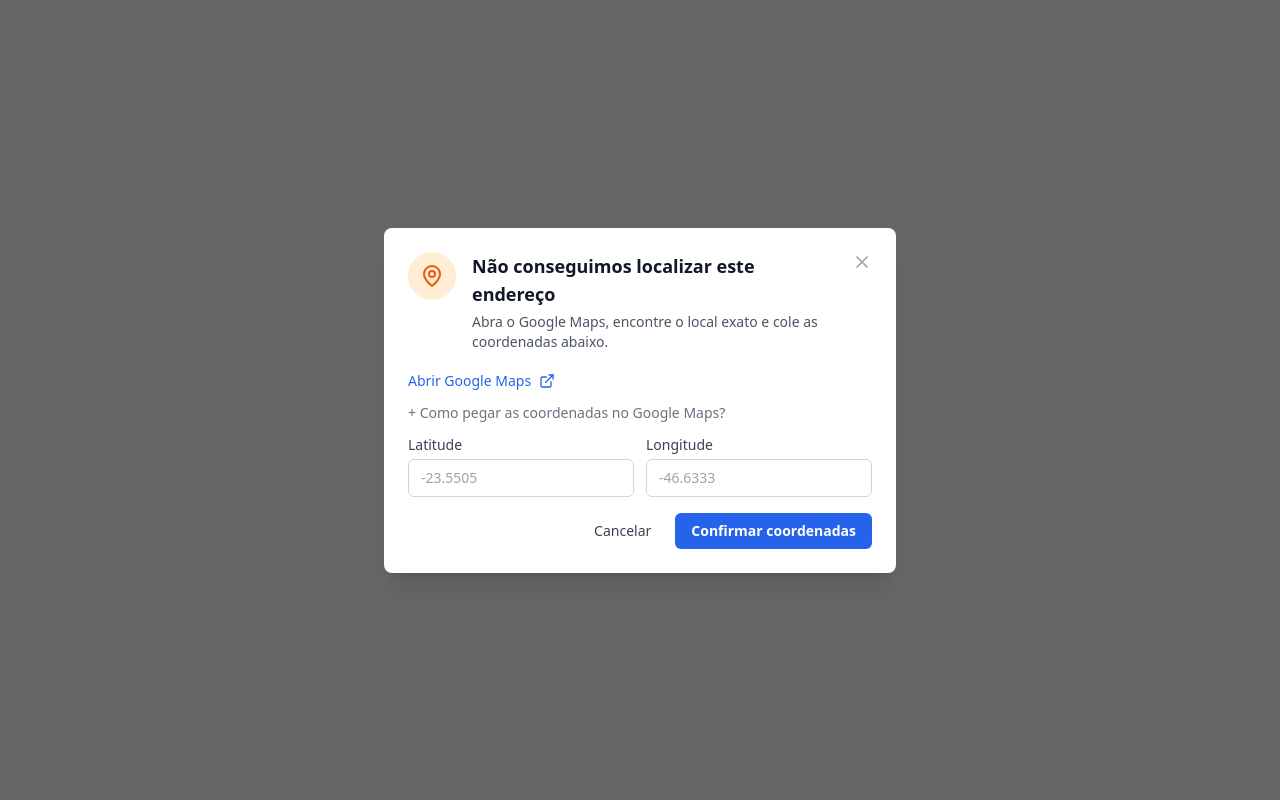
ManualCoordinatesModal › mostra erro quando longitude está fora do range
Type "-23.5" into the field with placeholder "-23.5505" at coordinates (521, 478), box [408,458,634,496]
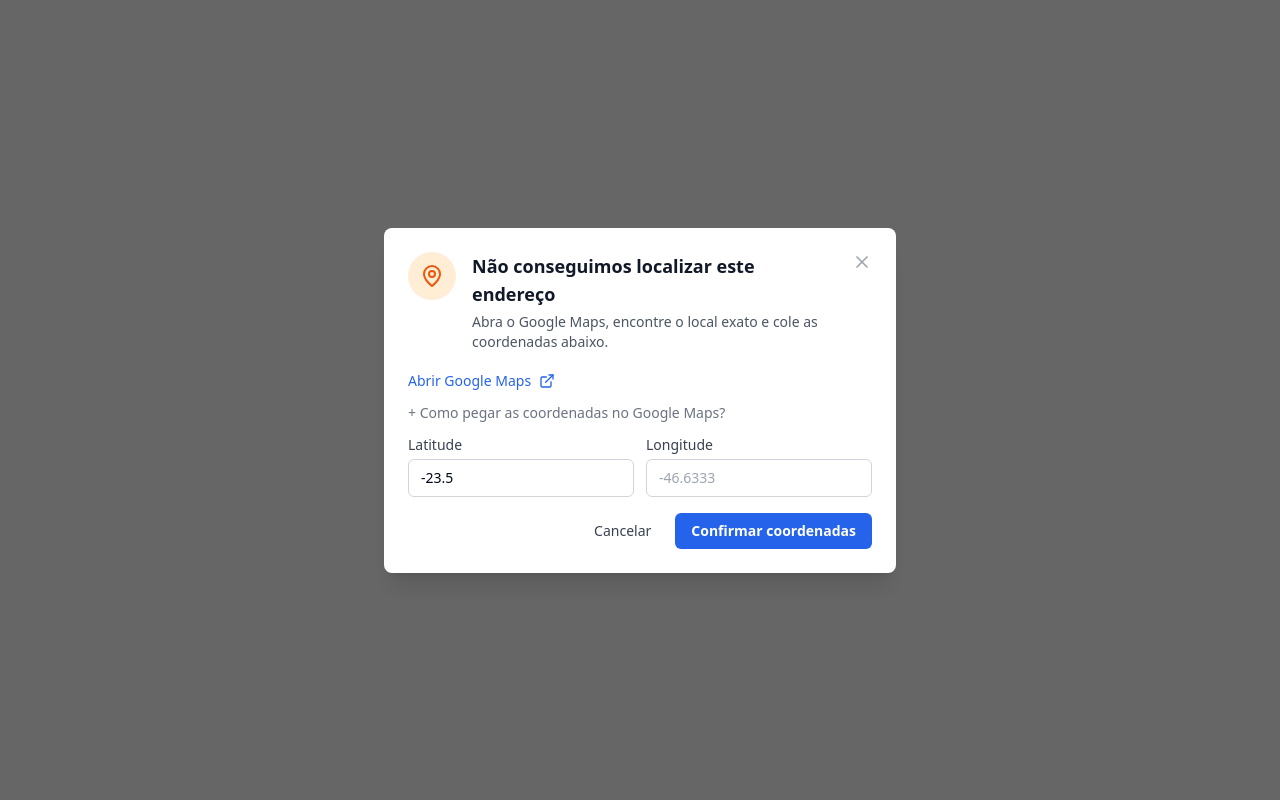
Type "999" into the field with placeholder "-46.6333" at coordinates (759, 478), box [646,458,872,496]
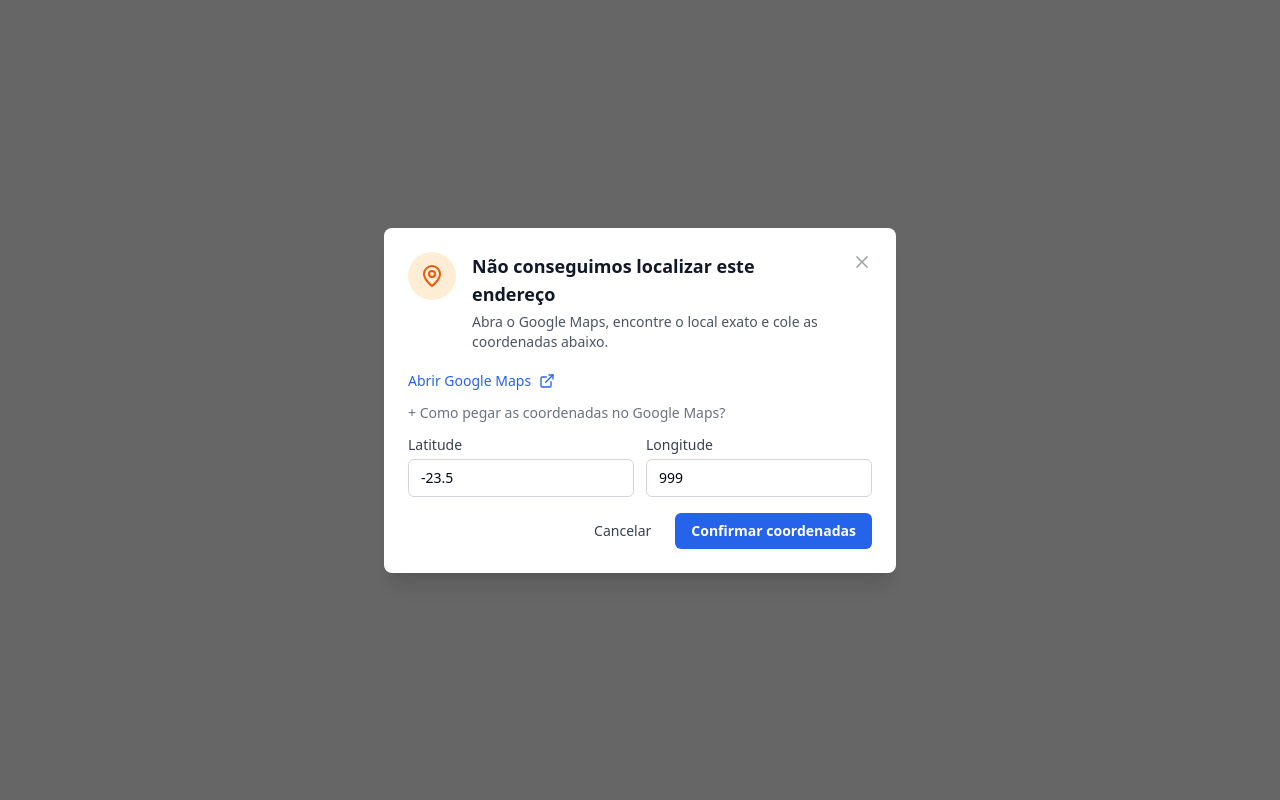
Click the button "Confirmar coordenadas" at coordinates (774, 530), box [675,512,872,548]
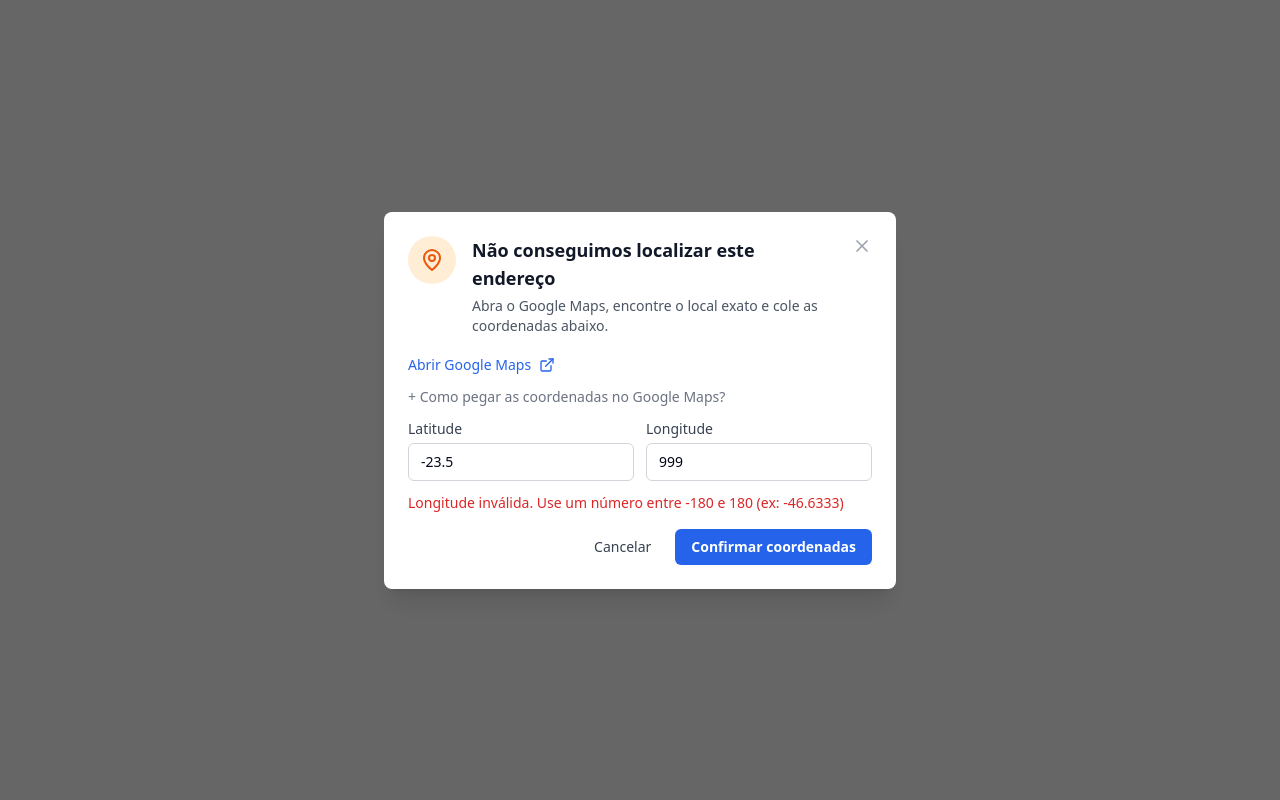
Result: the message shows "Longitude inválida" at [408,492,844,512]
